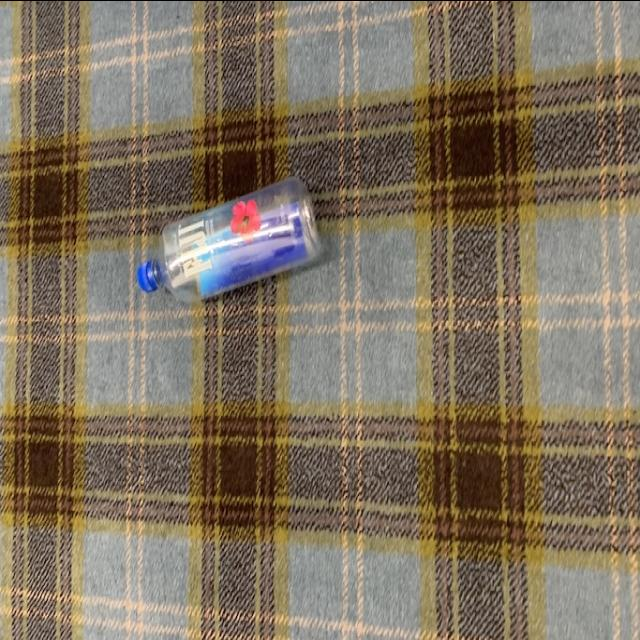PET: (136, 185, 326, 303)
